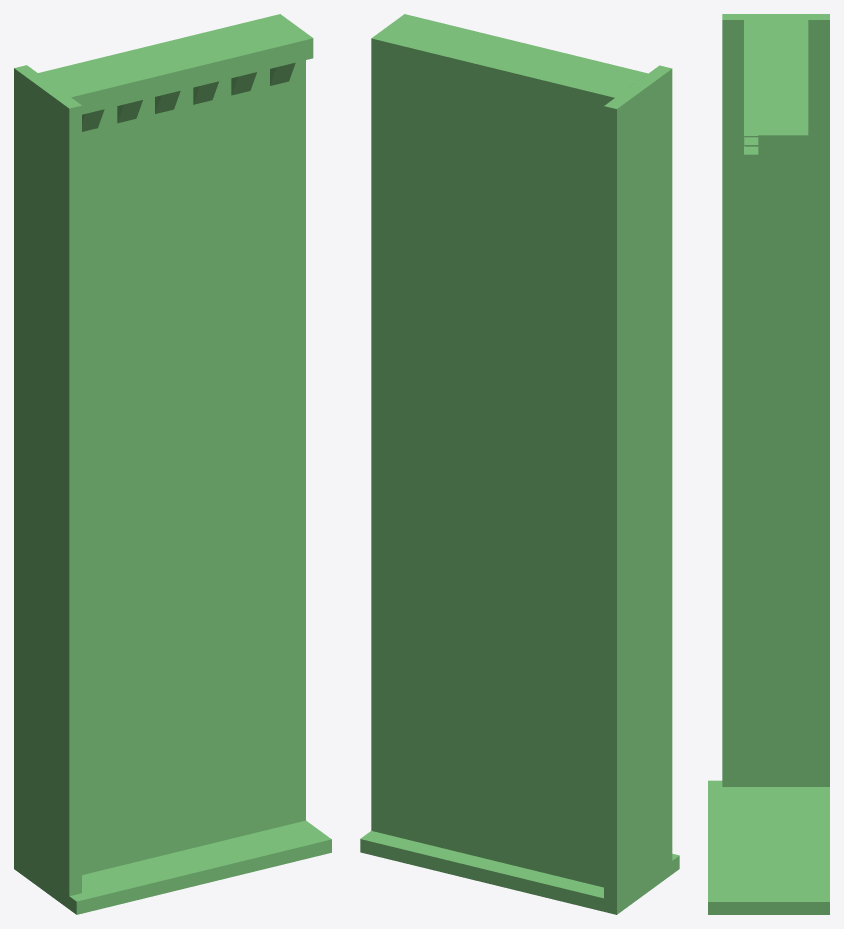
File: Bld3_Wall_Mid_D.fbx
The picture shows the model from 3 angles, left to right: view 1: azimuth 30°, elevation 25°; view 2: azimuth 150°, elevation 25°; view 3: azimuth 270°, elevation 25°; orthographic projection. The views are drawn at different scales.
Parts seen in each view (by area): view 1: Bld3_Wall_Mid_D; view 2: Bld3_Wall_Mid_D; view 3: Bld3_Wall_Mid_D.
Boxes of the visible parts, x1,y1,x2,y2 form: Bld3_Wall_Mid_D: [14, 14, 331, 914]; Bld3_Wall_Mid_D: [360, 14, 679, 914]; Bld3_Wall_Mid_D: [708, 14, 829, 914].
Size of the model in its own units: 300 by 900 by 128.
